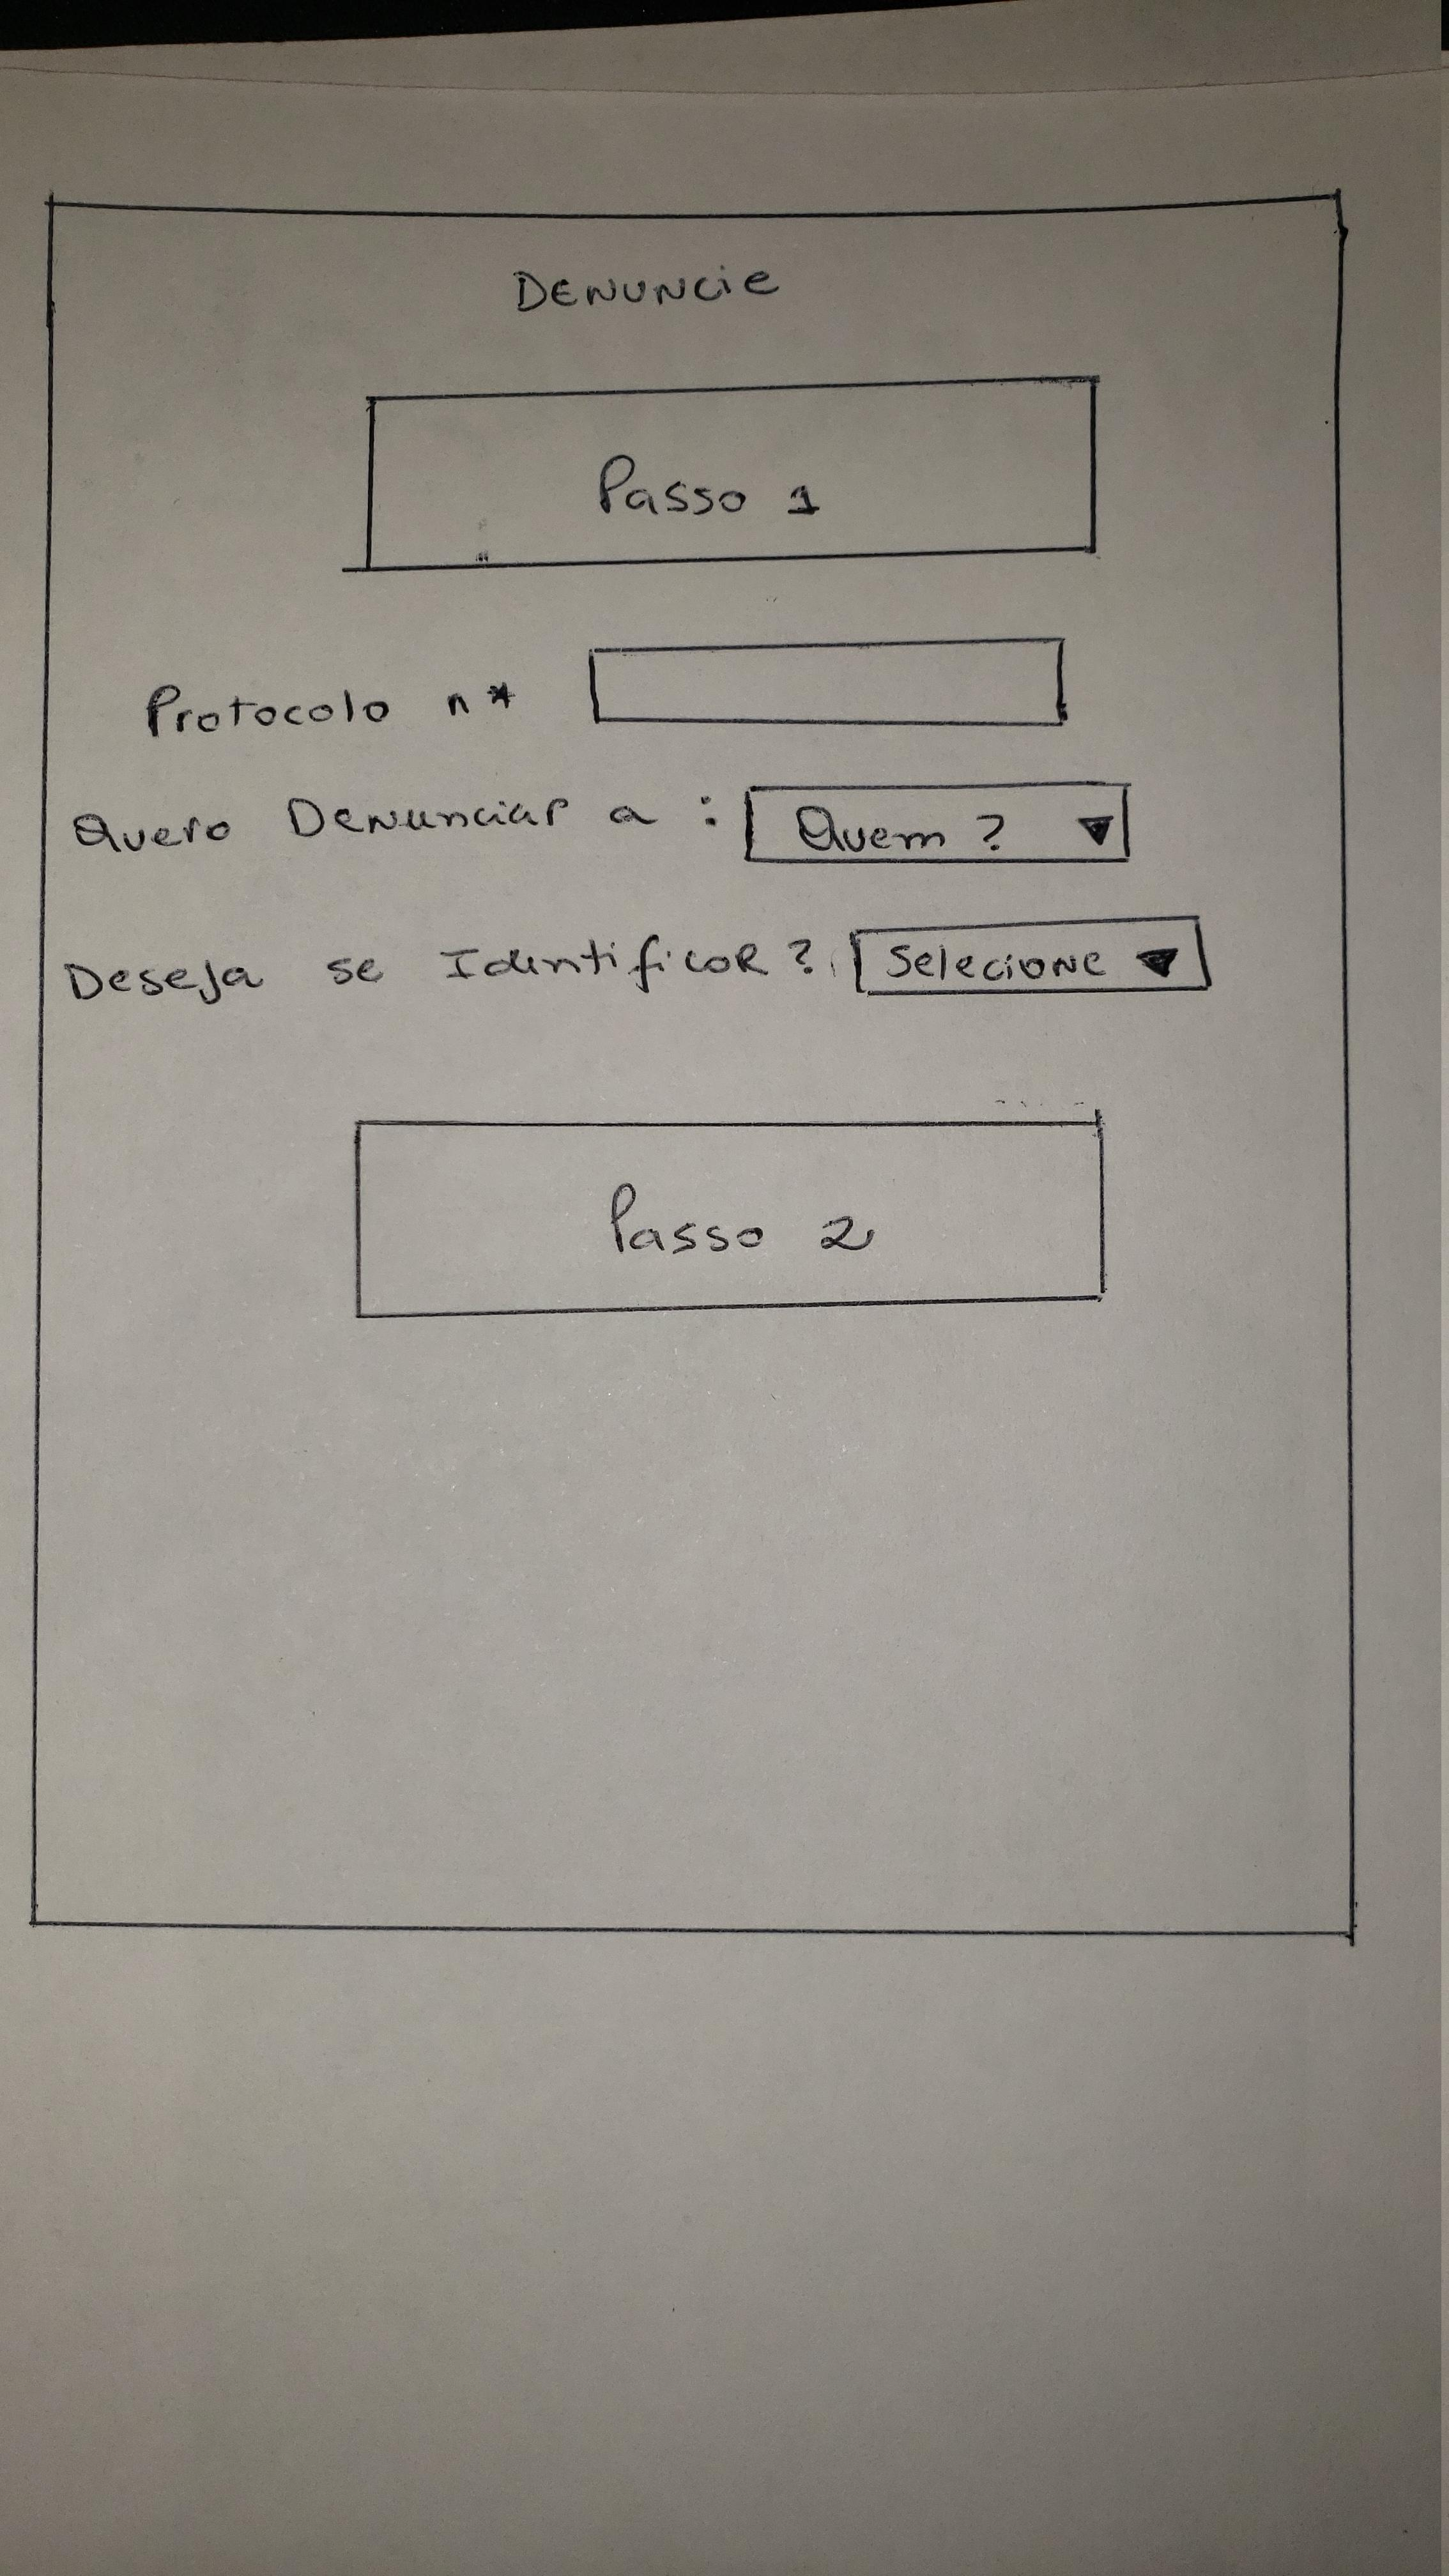Button: (356, 1119, 1107, 1321), (366, 374, 1097, 570)
Label: (61, 933, 813, 1001), (73, 792, 717, 849), (149, 678, 514, 740), (512, 266, 781, 314)
ListPicker: (744, 778, 1129, 865), (852, 913, 1211, 997)
Screen: (29, 190, 1358, 1943)
TextBox: (592, 636, 1067, 726)
